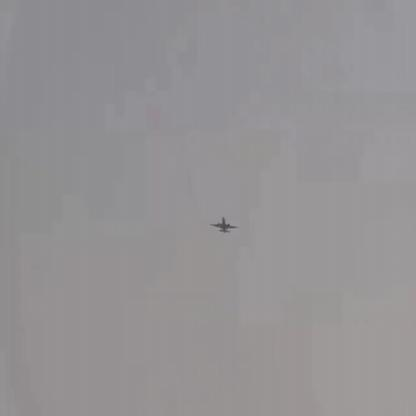CIV_Plane: (208, 216, 239, 232)
